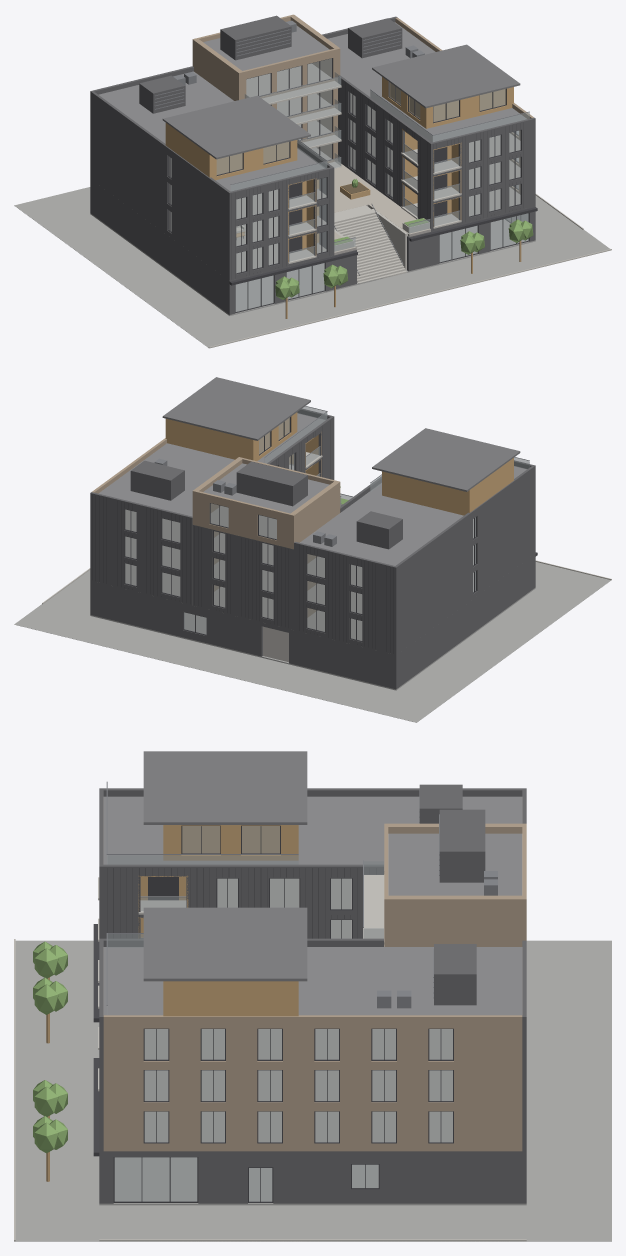
File: clay-courtyard-mixed-use-midrise-clay-v003.glb
The picture shows the model from 3 angles, top to bottom: view 1: azimuth 30°, elevation 25°; view 2: azimuth 150°, elevation 25°; view 3: azimuth 270°, elevation 25°; orthographic projection. The views are drawn at different scales.
Parts seen in each view (by area): view 1: CLAY_WALL, CLAY_FOUNDATION, CLAY_GLASS, CLAY_ROOF, CLAY_MEMBRANE, CLAY_CEDAR, CLAY_TRIM, CLAY_CONCRETE, CLAY_FLOOR, CLAY_TAN, CLAY_HARDWARE, CLAY_JOINT (+4 smaller); view 2: CLAY_WALL, CLAY_FOUNDATION, CLAY_ROOF, CLAY_MEMBRANE, CLAY_GLASS, CLAY_CEDAR, CLAY_TAN, CLAY_FLOOR, CLAY_JOINT, CLAY_TRIM, CLAY_HARDWARE, CLAY_PALE; view 3: CLAY_FOUNDATION, CLAY_TAN, CLAY_WALL, CLAY_MEMBRANE, CLAY_GLASS, CLAY_ROOF, CLAY_FLOOR, CLAY_CEDAR, CLAY_TRIM, CLAY_PLANTING, CLAY_CONCRETE, CLAY_STONE (+2 smaller).
Part boxes in pixels (bbox=[...]): CLAY_WALL: bbox=[90, 15, 535, 314]; CLAY_FOUNDATION: bbox=[14, 185, 609, 347]; CLAY_GLASS: bbox=[168, 58, 529, 311]; CLAY_ROOF: bbox=[162, 44, 520, 159]; CLAY_MEMBRANE: bbox=[98, 22, 526, 191]; CLAY_CEDAR: bbox=[165, 77, 513, 262]; CLAY_TRIM: bbox=[167, 58, 537, 312]; CLAY_CONCRETE: bbox=[262, 81, 461, 284]; CLAY_FLOOR: bbox=[169, 63, 520, 272]; CLAY_TAN: bbox=[192, 14, 533, 194]; CLAY_HARDWARE: bbox=[154, 20, 529, 275]; CLAY_JOINT: bbox=[231, 82, 523, 279]; CLAY_WALL: bbox=[90, 408, 535, 689]; CLAY_FOUNDATION: bbox=[14, 562, 610, 722]; CLAY_ROOF: bbox=[162, 377, 520, 491]; CLAY_MEMBRANE: bbox=[99, 413, 527, 565]; CLAY_GLASS: bbox=[125, 406, 529, 640]; CLAY_CEDAR: bbox=[165, 412, 513, 515]; CLAY_TAN: bbox=[92, 438, 340, 617]; CLAY_FLOOR: bbox=[125, 458, 475, 640]; CLAY_JOINT: bbox=[92, 420, 393, 653]; CLAY_TRIM: bbox=[124, 417, 537, 641]; CLAY_HARDWARE: bbox=[154, 406, 529, 546]; CLAY_PALE: bbox=[263, 626, 288, 662]; CLAY_FOUNDATION: bbox=[14, 940, 611, 1241]; CLAY_TAN: bbox=[103, 823, 526, 1151]; CLAY_WALL: bbox=[99, 784, 526, 1203]; CLAY_MEMBRANE: bbox=[104, 796, 521, 1015]; CLAY_GLASS: bbox=[107, 826, 452, 1201]; CLAY_ROOF: bbox=[143, 751, 307, 981]; CLAY_FLOOR: bbox=[103, 797, 522, 1142]; CLAY_CEDAR: bbox=[138, 825, 298, 1016]; CLAY_TRIM: bbox=[93, 825, 453, 1202]; CLAY_PLANTING: bbox=[33, 941, 67, 1153]; CLAY_CONCRETE: bbox=[98, 875, 384, 1091]; CLAY_STONE: bbox=[14, 939, 526, 1241].
Bounding box in the file's own units: 50 × 19.72 × 42.
